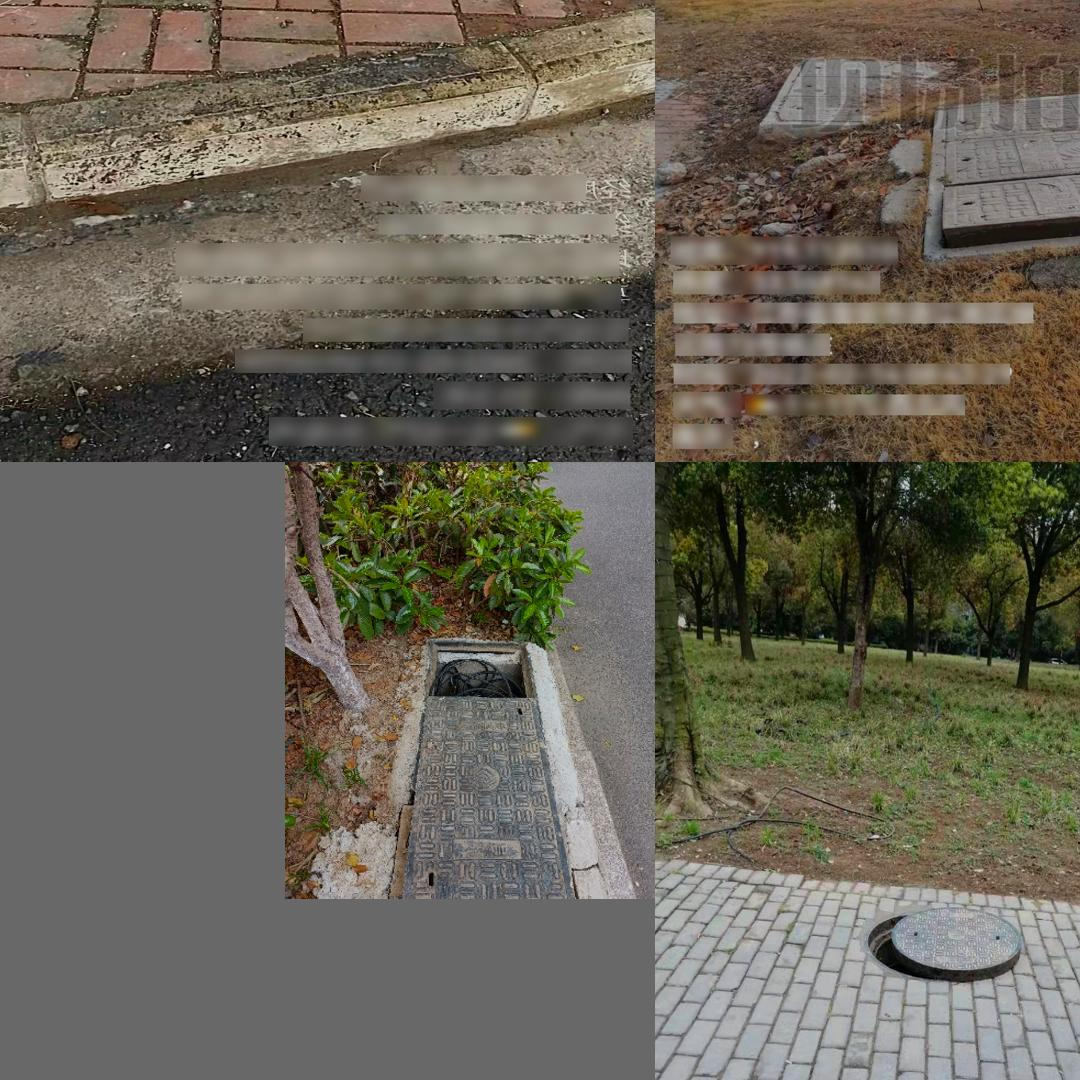good: (756, 54, 964, 142)
uncovered: (386, 639, 583, 899), (924, 87, 1080, 261), (856, 889, 1036, 982)
